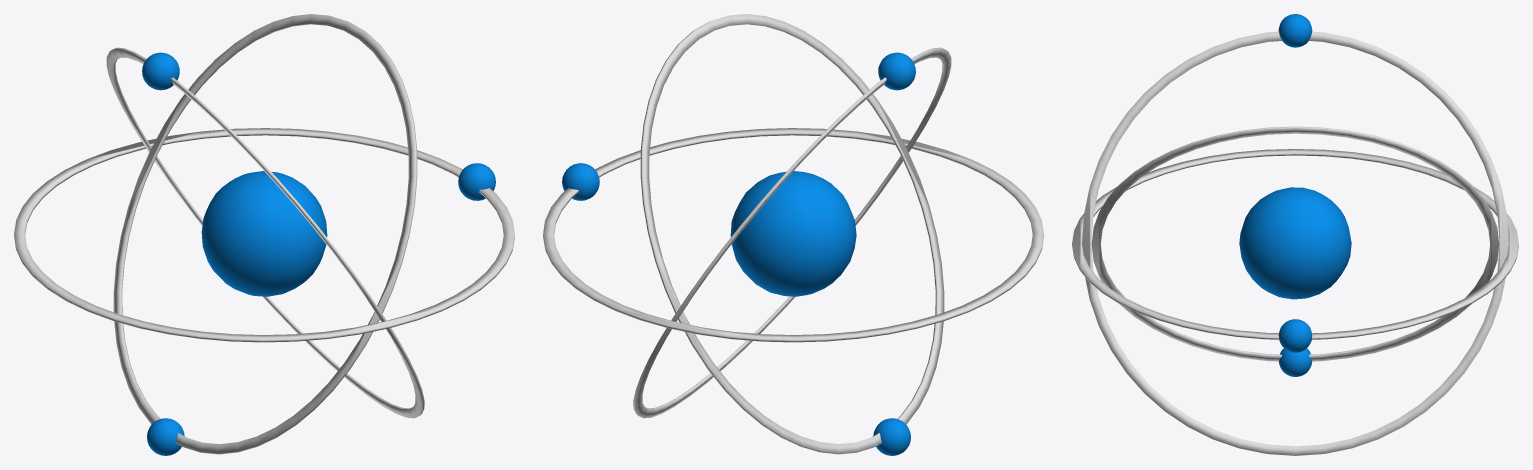
File: atom.glb
3 renders of one model, left to right at view 1: azimuth 30°, elevation 25°; view 2: azimuth 150°, elevation 25°; view 3: azimuth 270°, elevation 25°, orthographic. The views are drawn at different scales.
Parts seen in each view (by area): view 1: Sphere, BezierCircle.001, BezierCircle.003, BezierCircle.002, Sphere.003, Sphere.004, Sphere.002; view 2: Sphere, BezierCircle.001, BezierCircle.003, BezierCircle.002, Sphere.003, Sphere.004, Sphere.002; view 3: BezierCircle.002, Sphere, BezierCircle.001, BezierCircle.003, Sphere.002, Sphere.003, Sphere.004.
Boxes of the visible parts, box(x1,y1,x2,y2) form: Sphere: box(201, 171, 327, 296); BezierCircle.001: box(113, 14, 417, 454); BezierCircle.003: box(14, 128, 514, 342); BezierCircle.002: box(106, 47, 424, 418); Sphere.003: box(142, 52, 179, 90); Sphere.004: box(147, 418, 184, 455); Sphere.002: box(458, 163, 495, 200); Sphere: box(730, 171, 856, 296); BezierCircle.001: box(640, 14, 944, 454); BezierCircle.003: box(543, 128, 1043, 342); BezierCircle.002: box(633, 47, 951, 418); Sphere.003: box(878, 52, 915, 90); Sphere.004: box(873, 418, 910, 455); Sphere.002: box(562, 163, 599, 200); BezierCircle.002: box(1082, 31, 1508, 455); Sphere: box(1239, 187, 1351, 299); BezierCircle.001: box(1091, 126, 1499, 361); BezierCircle.003: box(1072, 149, 1518, 339); Sphere.002: box(1278, 319, 1312, 352); Sphere.003: box(1278, 14, 1312, 47); Sphere.004: box(1279, 348, 1311, 376).
Size of the model in its own units: 8.18 by 7.03 by 7.96.
